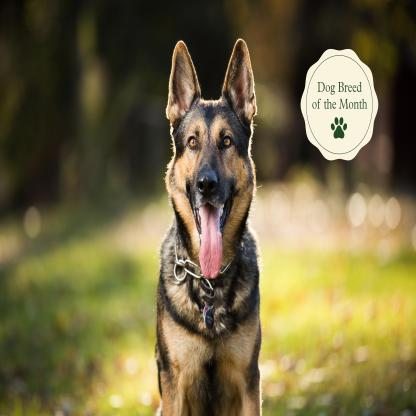german shepherd: (163, 39, 257, 416)
